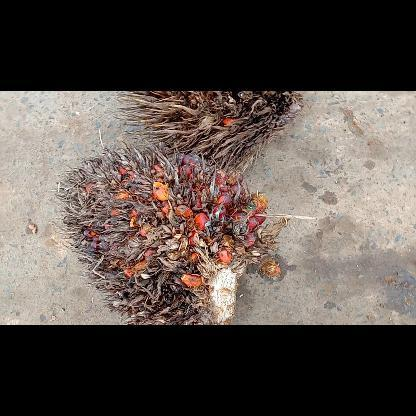Janjang kosong: (116, 90, 302, 172)
Terlalu masak: (54, 139, 288, 324)
